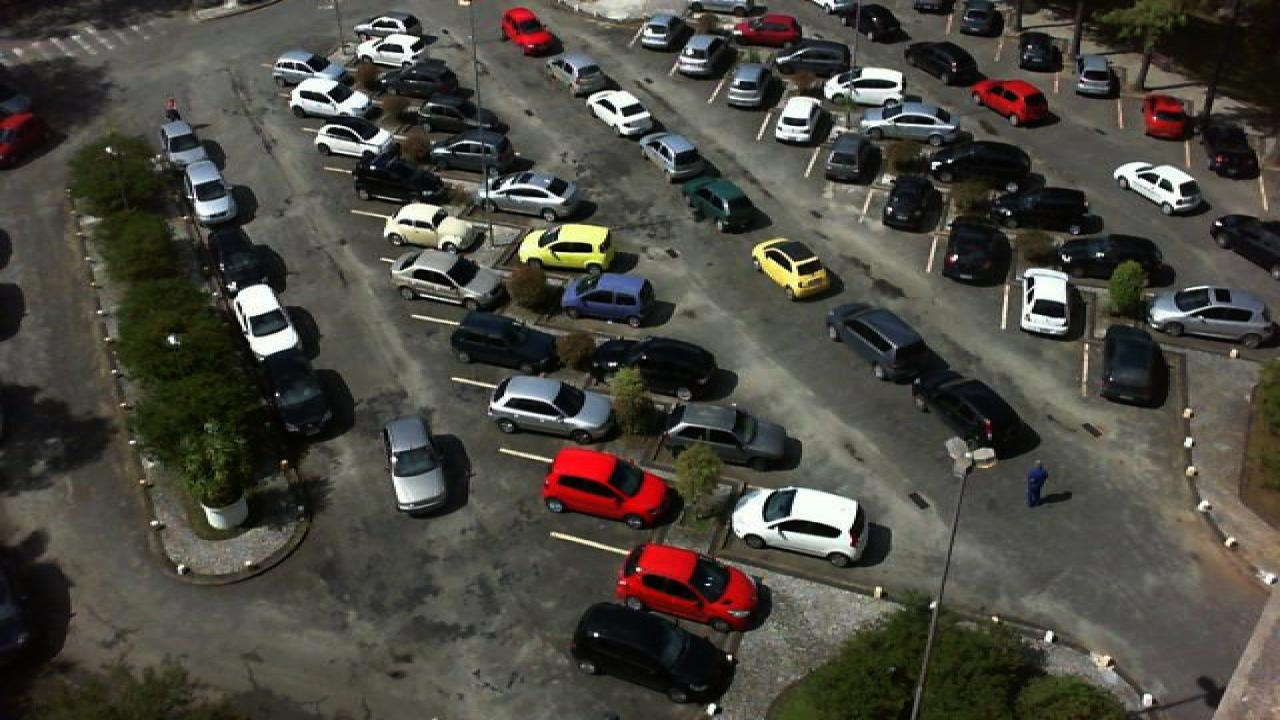Car: (568, 601, 734, 705), (614, 542, 770, 632), (728, 484, 872, 568), (542, 447, 680, 532), (918, 372, 1030, 458), (656, 401, 794, 469), (488, 373, 616, 441), (828, 302, 932, 379), (1146, 284, 1280, 342), (592, 334, 716, 396), (380, 415, 452, 518), (390, 248, 504, 310), (450, 309, 558, 369), (232, 280, 306, 359), (1100, 324, 1168, 406), (562, 271, 656, 329), (382, 202, 490, 252), (516, 223, 614, 277), (264, 356, 330, 435), (1016, 266, 1088, 338), (750, 238, 832, 300), (1054, 234, 1160, 281), (350, 153, 448, 203), (940, 219, 1012, 286), (988, 186, 1092, 232), (1112, 162, 1204, 214), (210, 226, 288, 287), (484, 169, 578, 219), (922, 139, 1034, 179), (680, 176, 762, 228), (1208, 213, 1280, 272), (636, 130, 710, 184), (970, 79, 1050, 127), (182, 156, 236, 225), (858, 109, 958, 146), (288, 80, 370, 124), (824, 66, 908, 108), (428, 137, 516, 177), (312, 120, 398, 160), (774, 38, 858, 78), (586, 89, 654, 138), (1204, 120, 1260, 179), (824, 132, 886, 184), (902, 41, 976, 84), (772, 96, 832, 148), (394, 96, 476, 132), (882, 174, 932, 232), (542, 54, 608, 94), (674, 33, 732, 78), (500, 7, 554, 55), (376, 64, 456, 96), (1140, 93, 1192, 142), (156, 120, 206, 169), (354, 34, 428, 66), (634, 12, 688, 54), (722, 63, 770, 110), (736, 14, 802, 46), (1016, 32, 1062, 73), (1074, 56, 1116, 99), (270, 50, 326, 82), (354, 12, 420, 38), (960, 1, 1004, 38), (688, 0, 756, 19)
